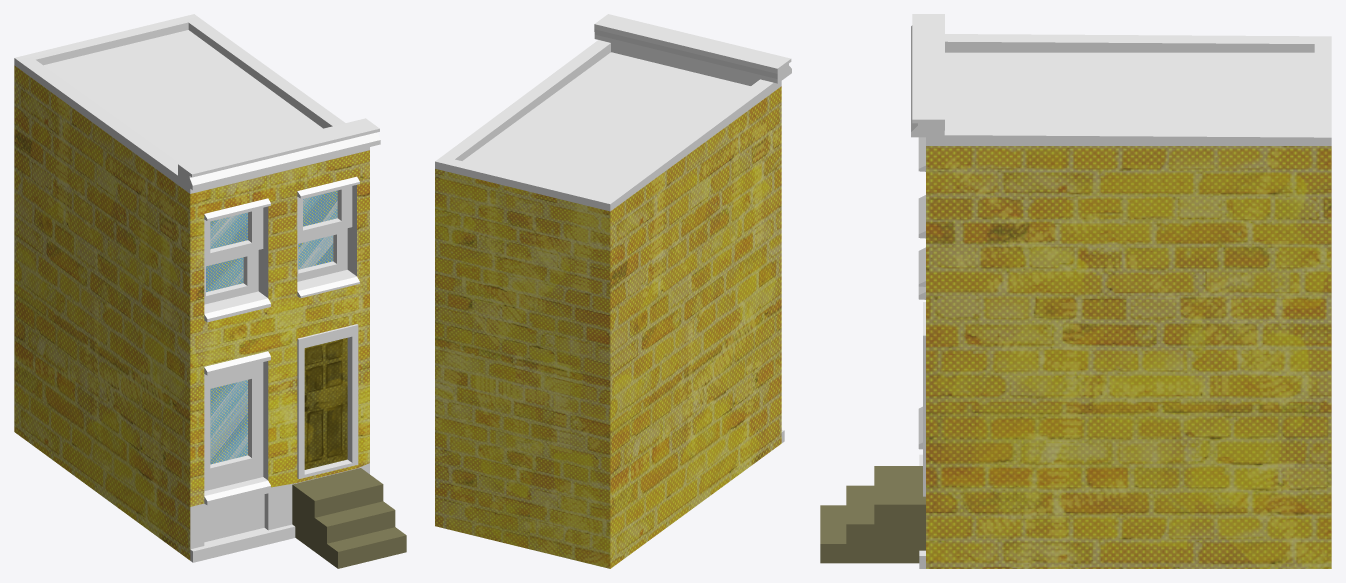
File: building3_final.fbx
3 renders of one model, left to right at view 1: azimuth 30°, elevation 25°; view 2: azimuth 150°, elevation 25°; view 3: azimuth 270°, elevation 25°, orthographic. The views are drawn at different scales.
Parts seen in each view (by area): view 1: polySurface4; view 2: polySurface4; view 3: polySurface4.
Part boxes in pixels (left/top/right/bottom): polySurface4: left=14, top=14, right=406, bottom=568; polySurface4: left=435, top=14, right=791, bottom=568; polySurface4: left=820, top=14, right=1331, bottom=568.
Size of the model in its own units: 4.7 by 9.36 by 9.6.
